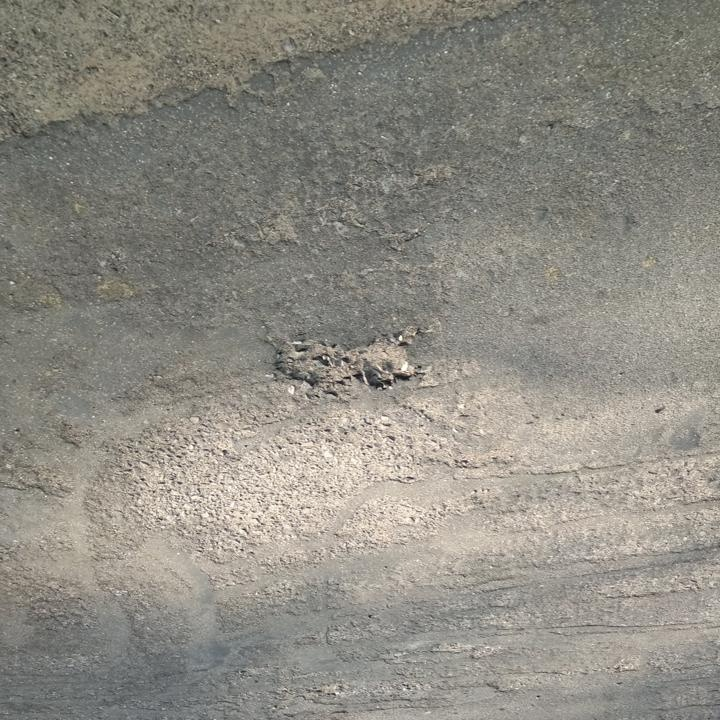pothole: (0, 0, 560, 142), (274, 329, 427, 394)
